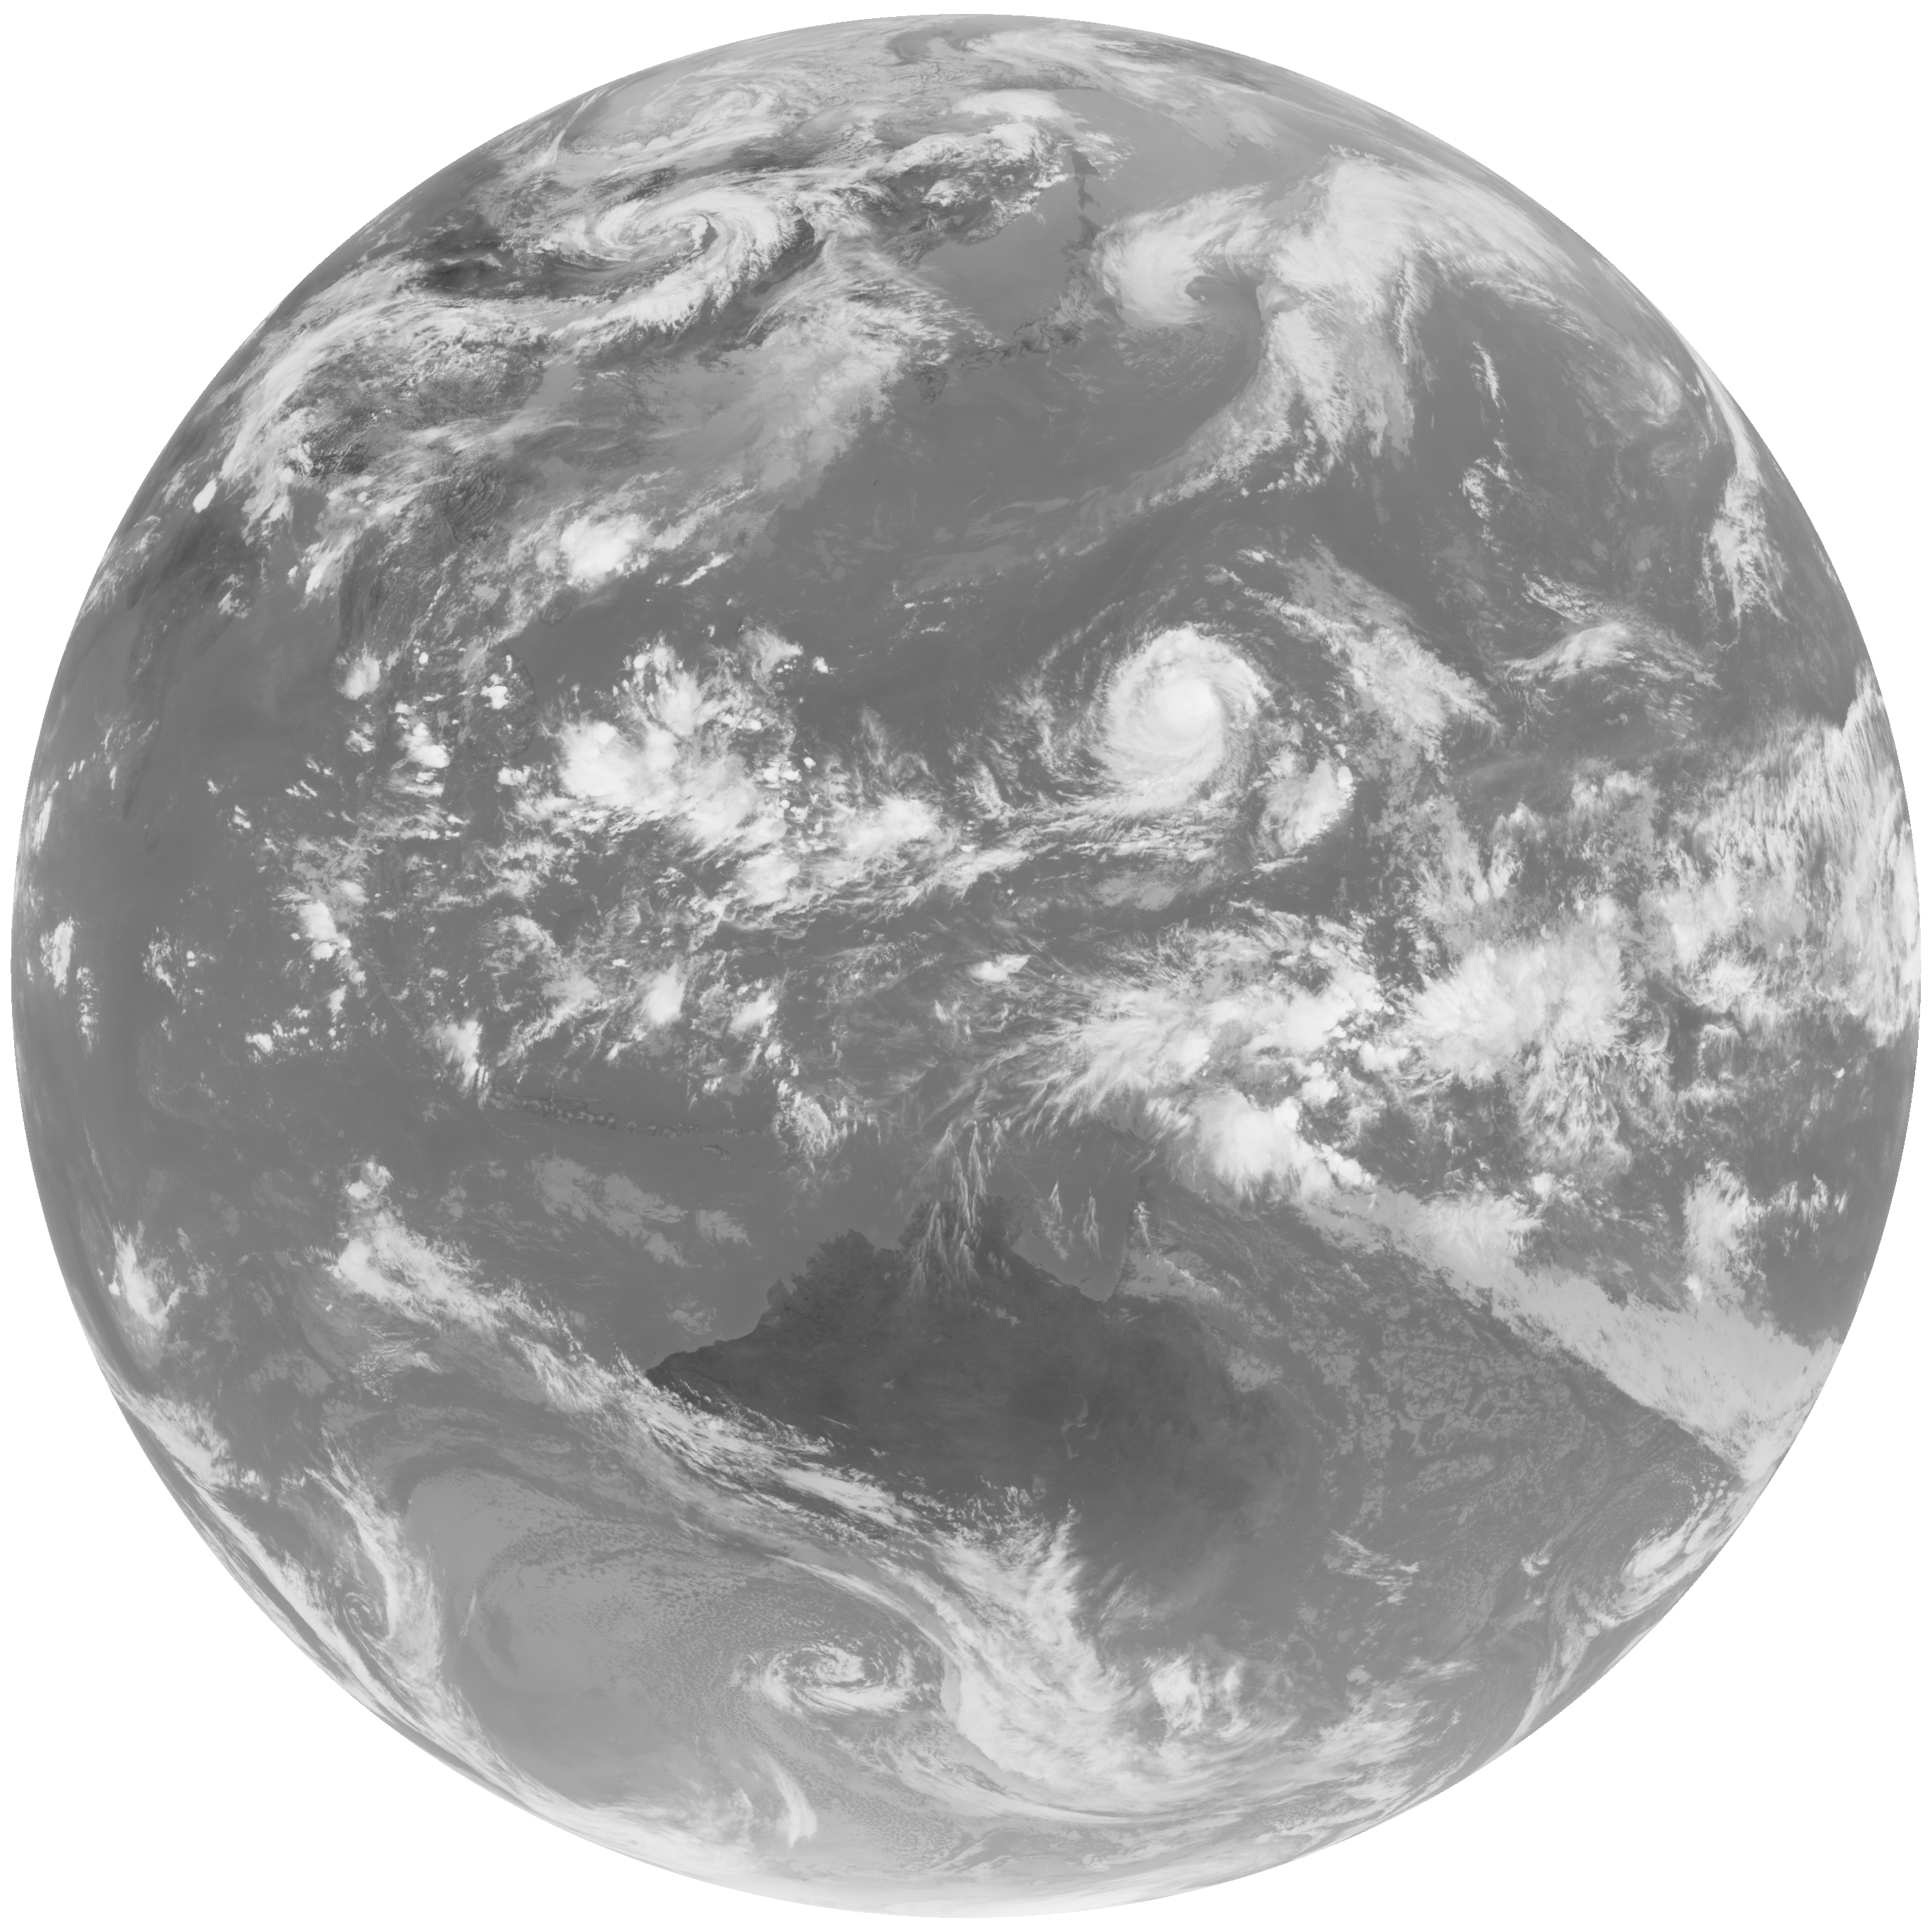typhoon: (915, 559, 1428, 890)
